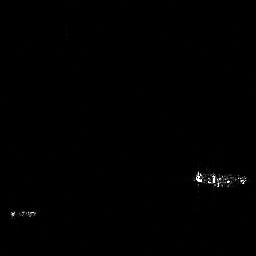ship: (192, 168, 248, 190), (9, 208, 39, 219)
